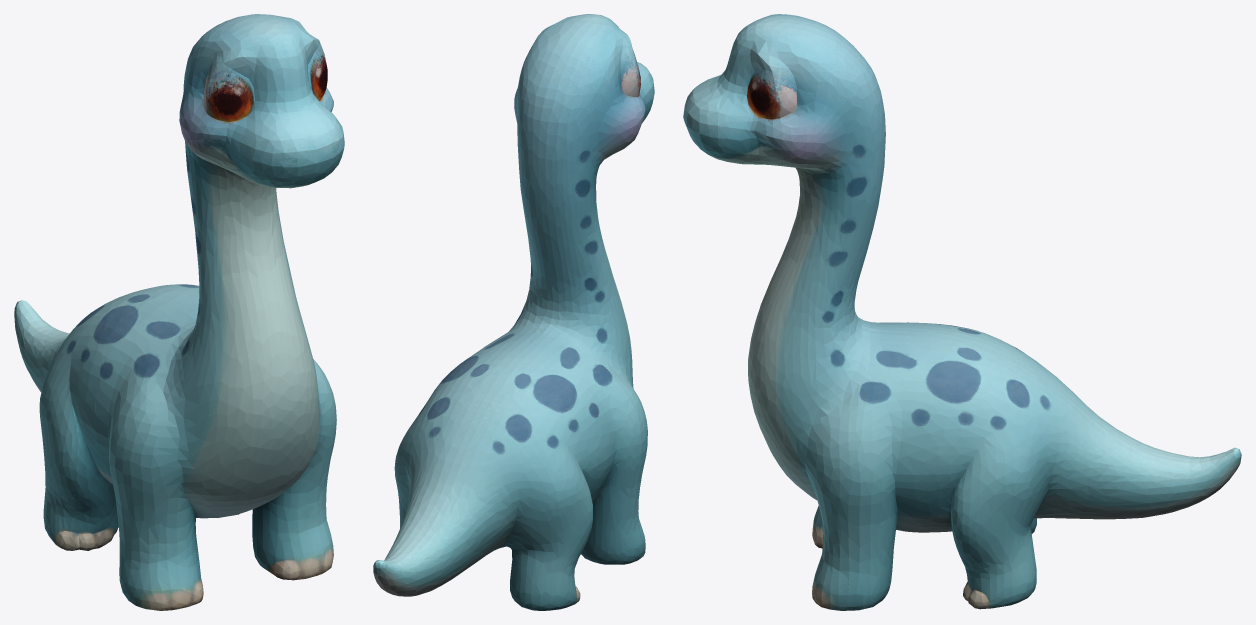
The model's file is image_2.glb.
The picture shows the model from 3 angles, left to right: view 1: azimuth 30°, elevation 25°; view 2: azimuth 150°, elevation 25°; view 3: azimuth 270°, elevation 25°; orthographic projection. The views are drawn at different scales.
Visible parts, largest first — view 1: world; view 2: world; view 3: world.
Part boxes in pixels (x1,y1,x2,y2): world: (14,14,344,610); world: (373,14,654,610); world: (683,14,1241,610).
Bounding box in the file's own units: 0.3852 × 0.9995 × 0.9286.
1 material, 1 textured.
